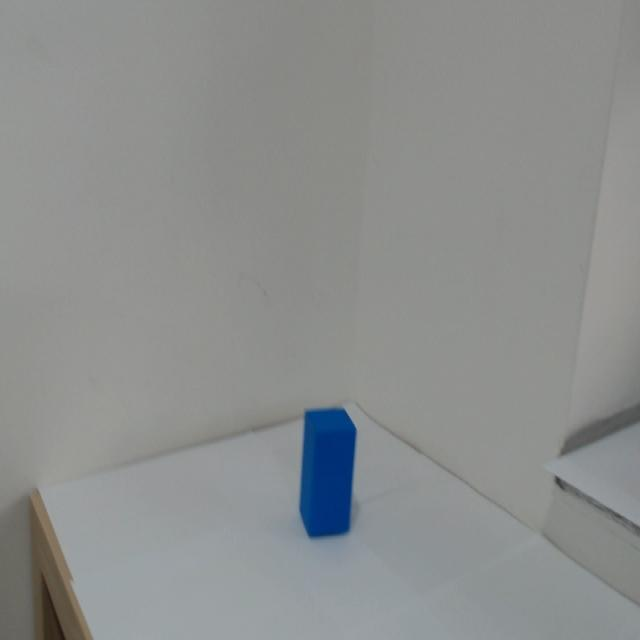cube: (287, 398, 366, 566)
